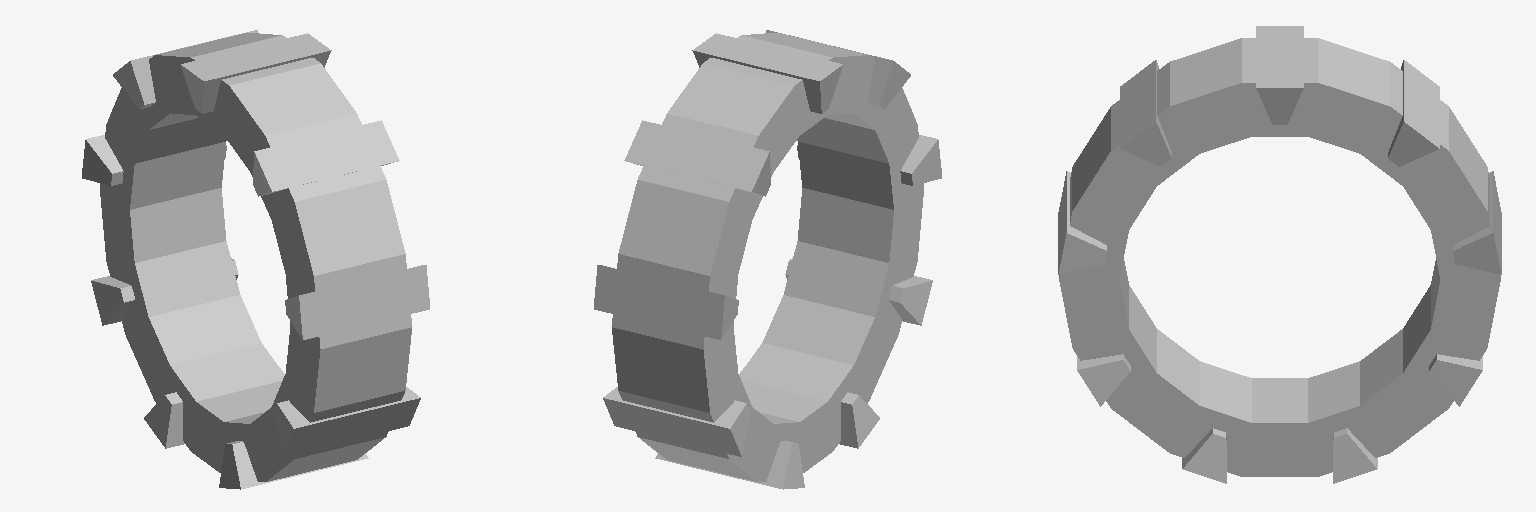
Rendered from Stargate-web.obj.
The picture shows the model from 3 angles: view 1: azimuth 30°, elevation 25°; view 2: azimuth 150°, elevation 25°; view 3: azimuth 270°, elevation 25°; orthographic projection.
Parts seen in each view (by area): view 1: Stargate_Circle.002; view 2: Stargate_Circle.002; view 3: Stargate_Circle.002.
Part boxes in pixels (x1,y1,x2,y2): Stargate_Circle.002: (82,30,429,489); Stargate_Circle.002: (594,30,941,489); Stargate_Circle.002: (1058,26,1501,483).
Bounding box in the file's own units: 1 × 2.98 × 3.01.